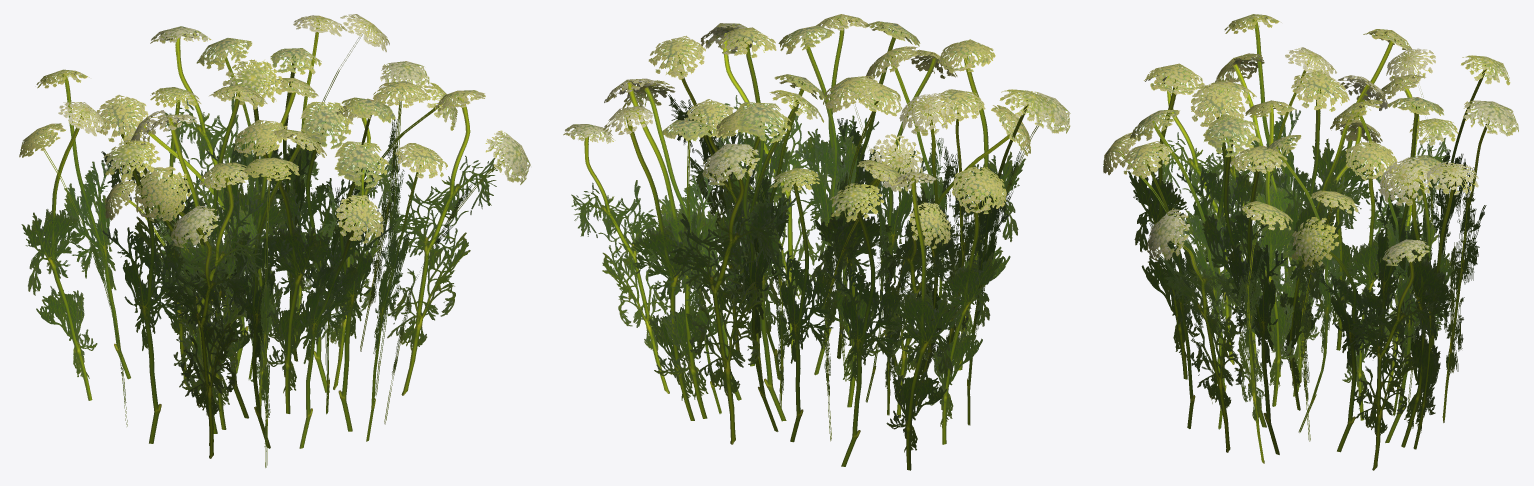
File: NaturePlant07_6.FBX
3 renders of one model, left to right at view 1: azimuth 30°, elevation 25°; view 2: azimuth 150°, elevation 25°; view 3: azimuth 270°, elevation 25°, orthographic. The views are drawn at different scales.
Visible parts, largest first — view 1: NaturePlant07_6; view 2: NaturePlant07_6; view 3: NaturePlant07_6.
Part boxes in pixels (box(x1,y1,x2,y2)): NaturePlant07_6: box(19, 14, 530, 467); NaturePlant07_6: box(563, 14, 1070, 470); NaturePlant07_6: box(1103, 14, 1518, 470).
Size of what is drawn, in the model's own units: 1.36 by 1.01 by 1.17.
